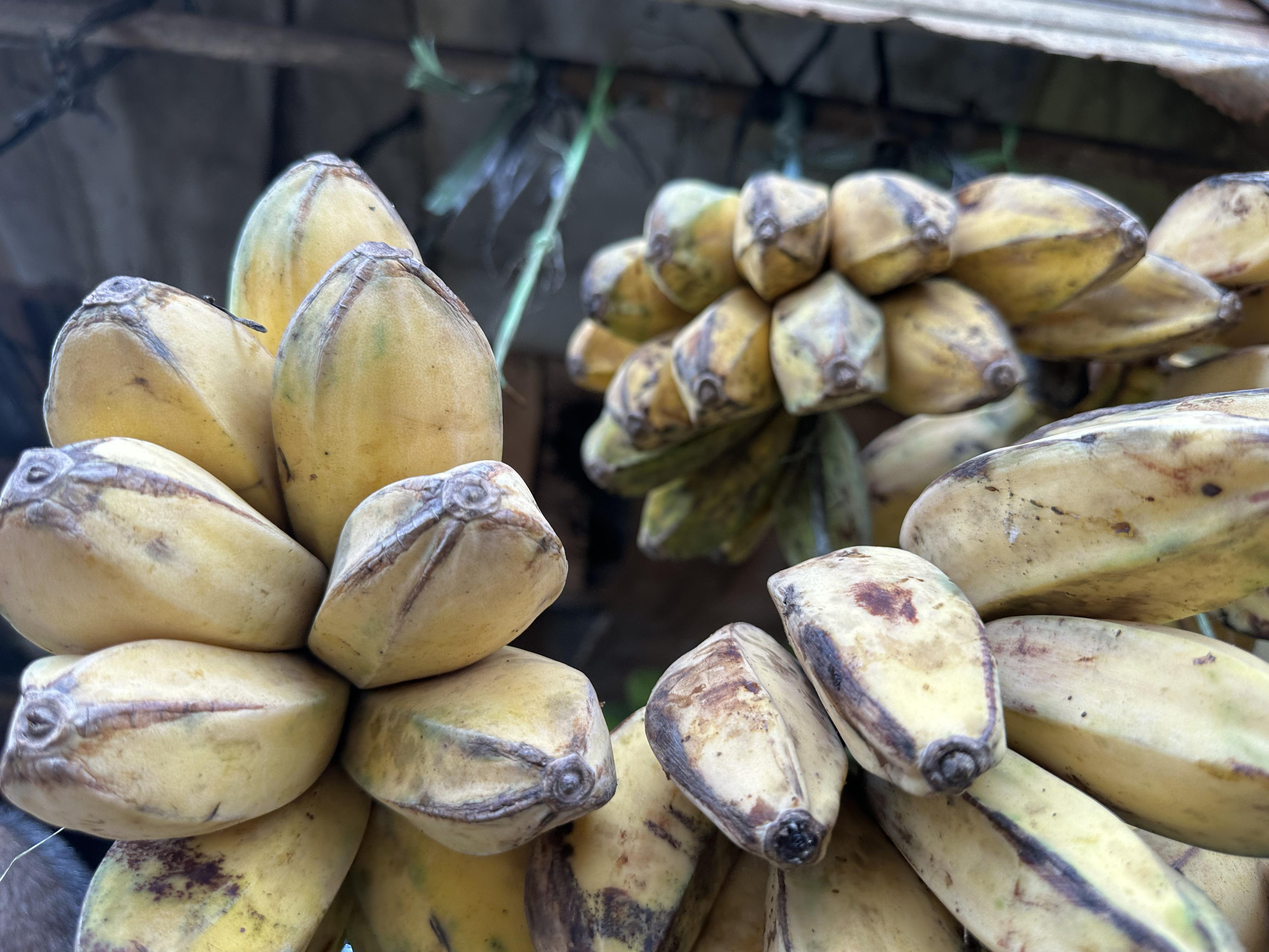ripe: (0, 154, 615, 952)
underripe: (531, 390, 1269, 952), (567, 171, 1240, 563)
